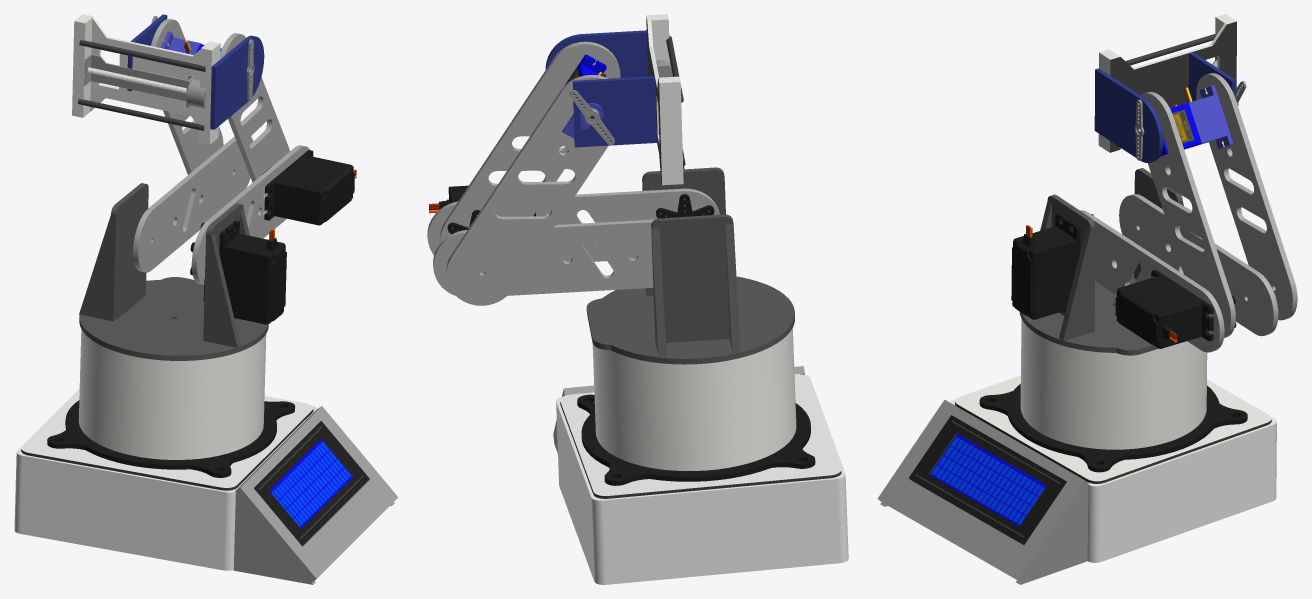
File: Robotic Manipulator.glb
The picture shows the model from 3 angles, left to right: view 1: azimuth 30°, elevation 25°; view 2: azimuth 150°, elevation 25°; view 3: azimuth 270°, elevation 25°; orthographic projection. The views are drawn at different scales.
Parts seen in each view (by area): view 1: Solid1 (×20), Solid7 (×2), Solid2 (×2), Solid6 (×2), Solid3; view 2: Solid1 (×15), Solid3, Solid2 (×2); view 3: Solid1 (×20), Solid7 (×2), Solid6 (×2), Solid2, Solid3.
Boxes of the visible parts, x1,y1,x2,y2 form: Solid1 (×20): [14, 14, 398, 584]; Solid7 (×2): [223, 155, 343, 322]; Solid2 (×2): [79, 35, 264, 320]; Solid6 (×2): [258, 163, 354, 324]; Solid3: [127, 14, 167, 91]; Solid1 (×15): [427, 14, 848, 584]; Solid3: [572, 76, 656, 147]; Solid2 (×2): [545, 30, 740, 352]; Solid1 (×20): [877, 14, 1297, 584]; Solid7 (×2): [1023, 226, 1201, 346]; Solid6 (×2): [1011, 236, 1168, 348]; Solid2: [1094, 68, 1163, 162]; Solid3: [1188, 52, 1235, 101].
Size of the model in its own units: 0.2212 by 0.268 by 0.2202.
